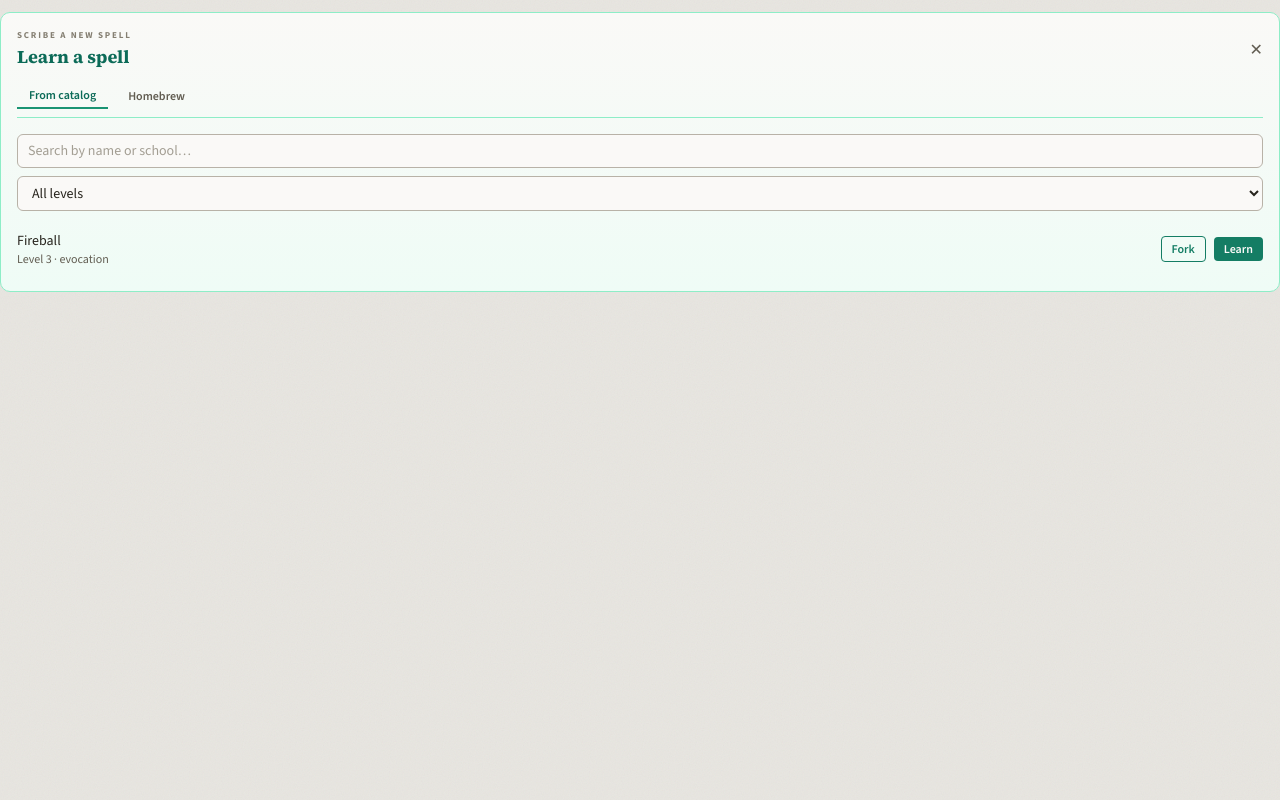
Test: AddSpellPanel — Homebrew tab gates Edit/Delete on catalog.editable (#1808/#1811) › shows Edit/Delete on the Homebrew tab once the post-fork refetch re-supplies the DM's own CAMPAIGN fork (editable: true)
This screenshot has width=1280, height=800.
Click the button with aria-label "Fork Fireball".
click(1183, 248)  # box left=1160, top=236, right=1206, bottom=262
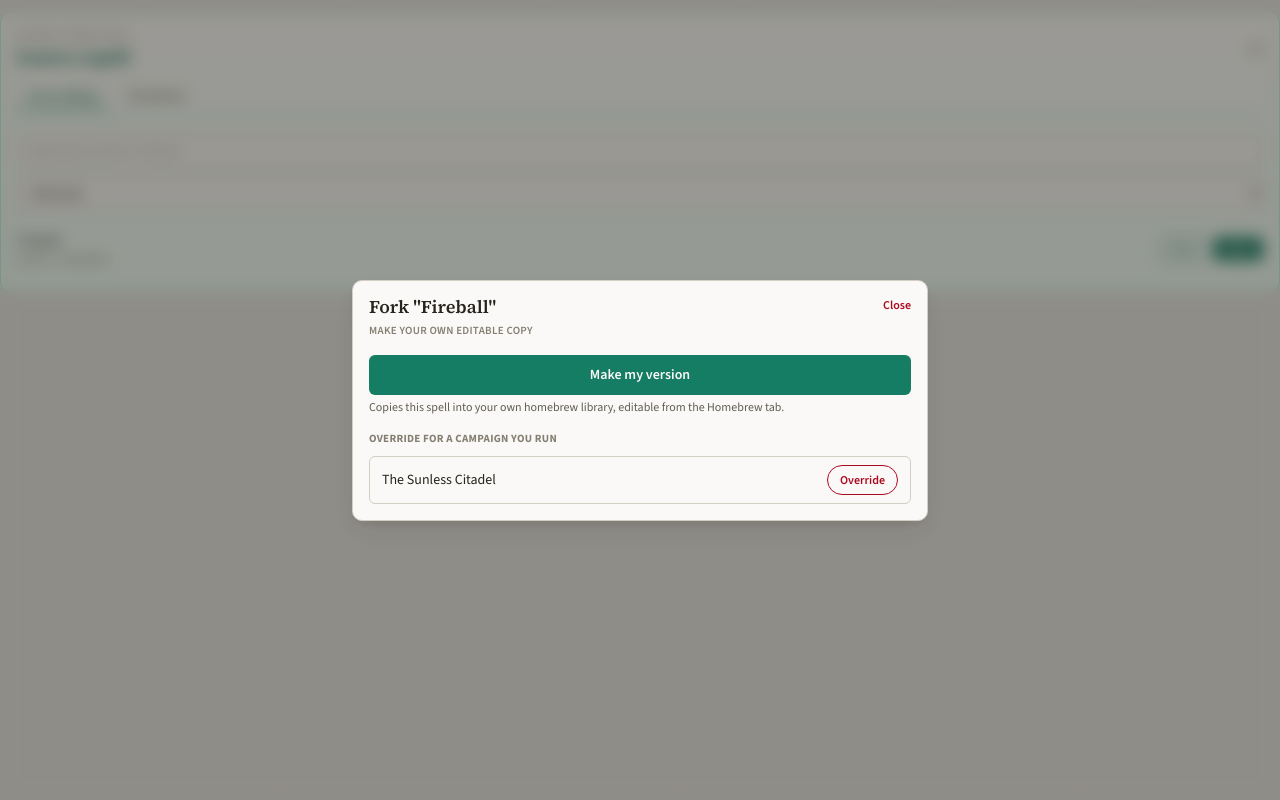
Click the button with aria-label "Override for The Sunless Citadel".
click(862, 480)  # box left=827, top=464, right=898, bottom=494
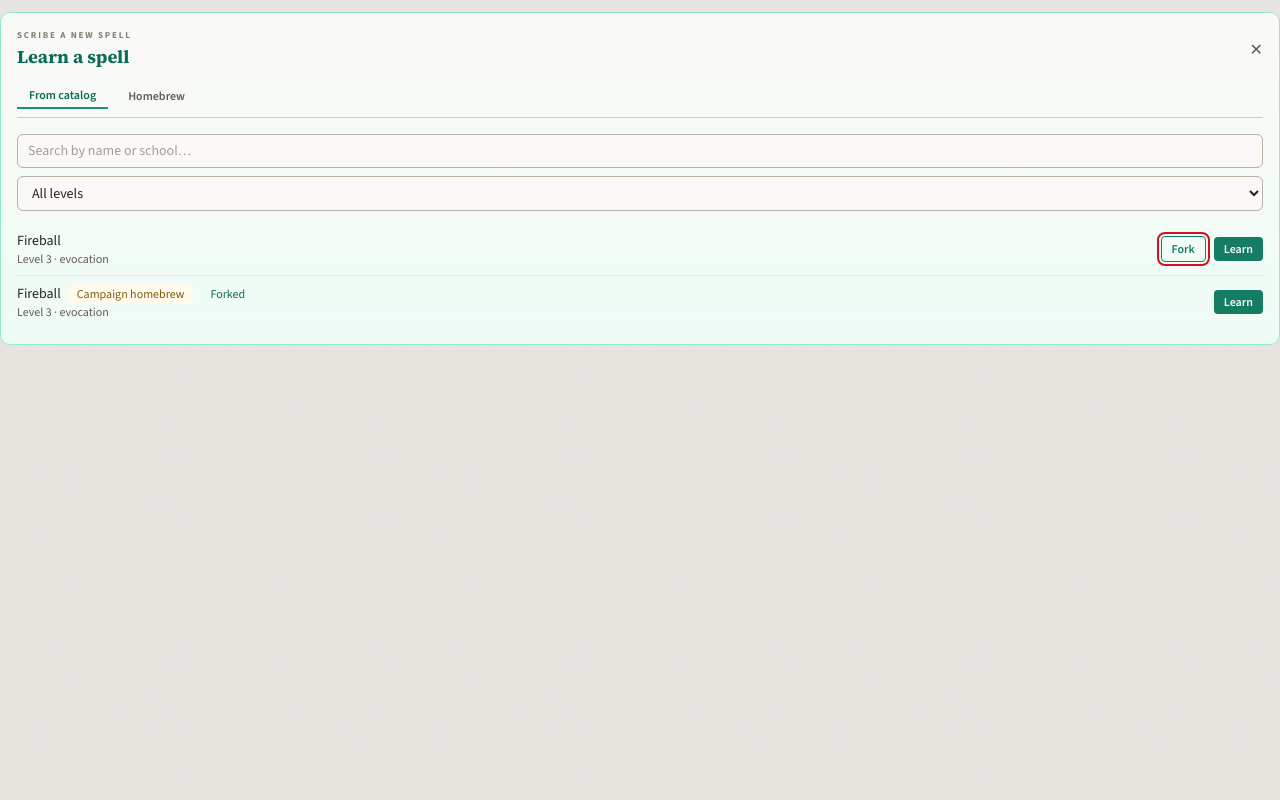
Click the button "Homebrew".
click(157, 96)  # box left=116, top=82, right=197, bottom=108
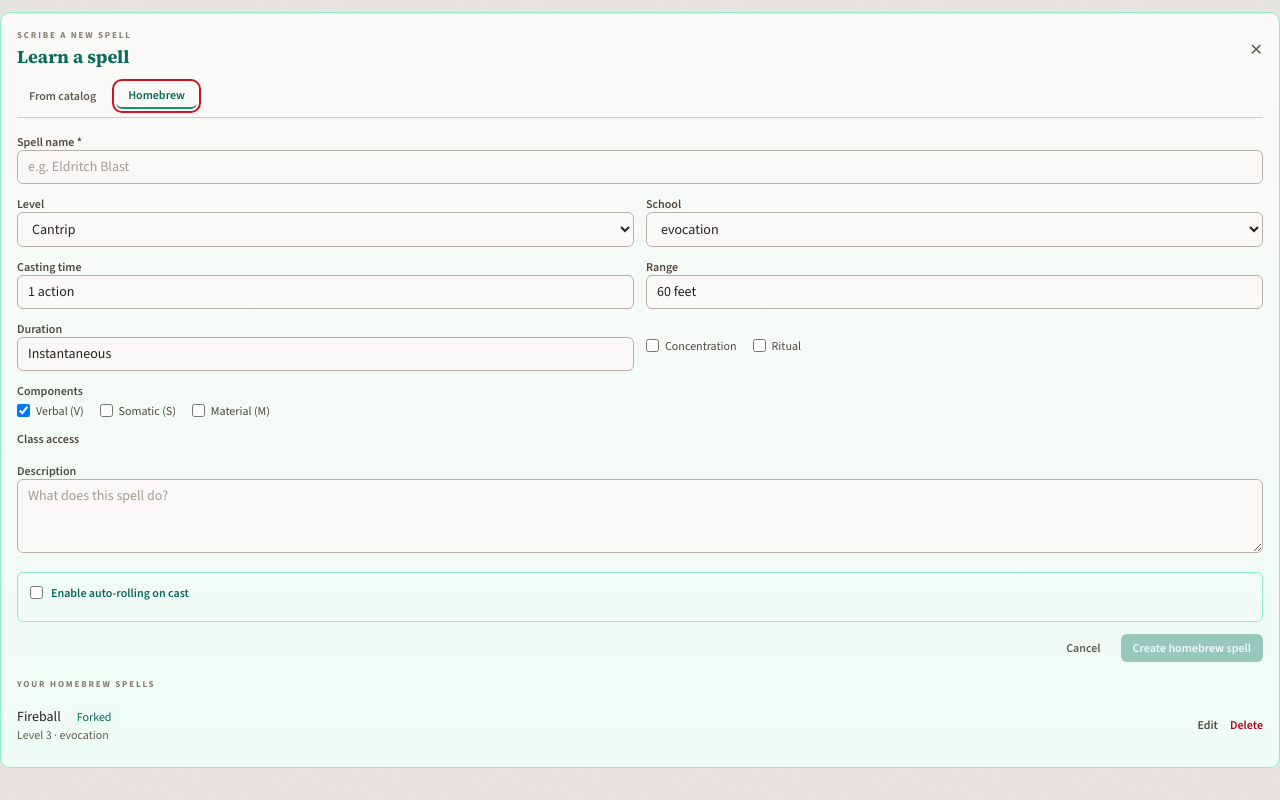
Expected: the text "Fireball" is shown, left=17, top=707, right=61, bottom=726
Expected: the button with aria-label "Edit Fireball" is shown, left=1197, top=717, right=1218, bottom=733
Expected: the button with aria-label "Delete Fireball" is shown, left=1230, top=717, right=1263, bottom=733
